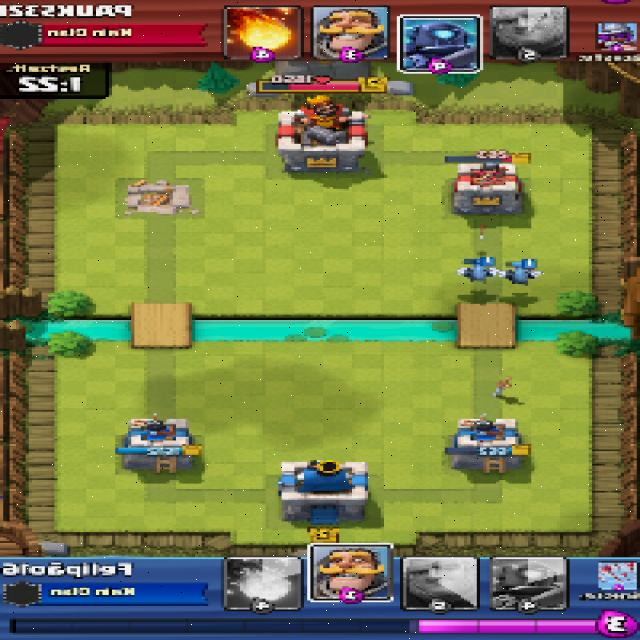Player-Minion: (462, 264, 500, 284), (504, 266, 542, 284)
